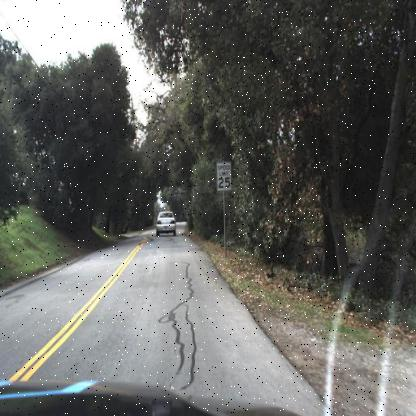car: (152, 206, 178, 238)
